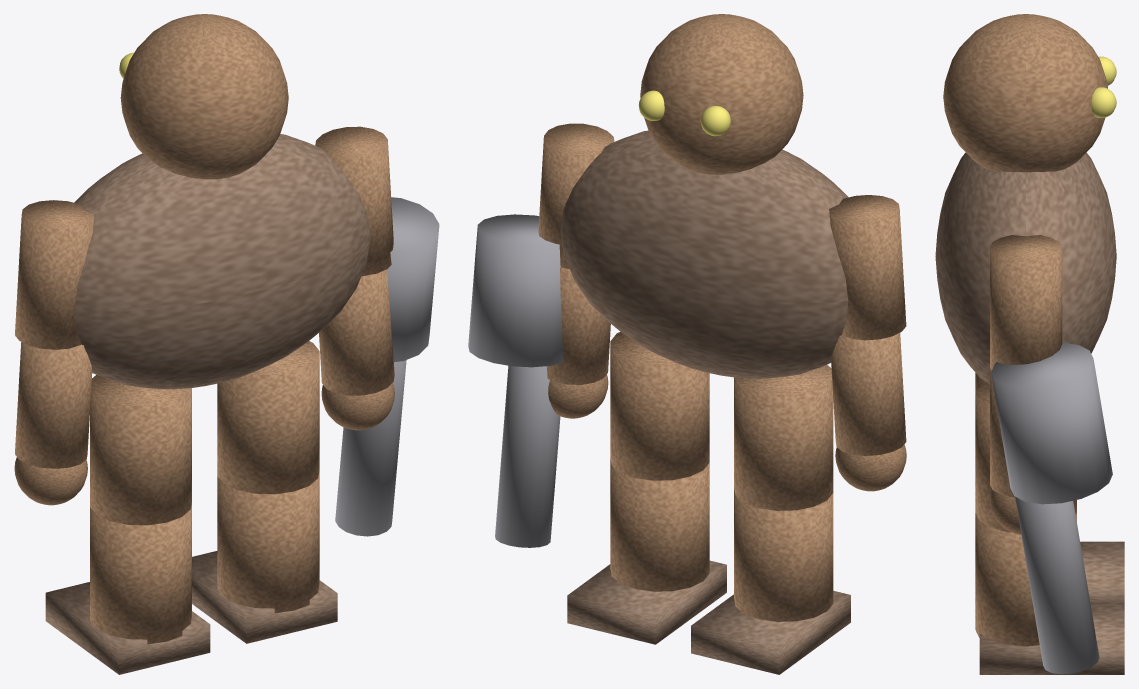
The model's file is half-ogre.glb.
3 views of the same model, side by side, from view 1: azimuth 30°, elevation 25°; view 2: azimuth 150°, elevation 25°; view 3: azimuth 270°, elevation 25° (orthographic). The views are drawn at different scales.
Parts seen in each view (by area): view 1: Torso, Head, ThighL, ThighR, ShinR, ShinL, UpperArmL, ForearmL, ForearmR, ClubShaft, ClubHead, FootL (+4 smaller); view 2: Torso, Head, ThighL, ClubHead, ThighR, ShinR, ShinL, ClubShaft, UpperArmL, ForearmL, FootR, FootL (+6 smaller); view 3: Torso, Head, ClubHead, ClubShaft, UpperArmR, ShinR, FootR, FootL, ThighR, ForearmR, HandR, Eye.001 (+1 smaller).
Boxes of the visible parts, x1,y1,x2,y2 form: Torso: [74, 134, 370, 389]; Head: [120, 14, 288, 179]; ThighL: [90, 375, 191, 525]; ThighR: [217, 341, 319, 494]; ShinR: [217, 470, 319, 613]; ShinL: [90, 503, 191, 644]; UpperArmL: [15, 200, 94, 349]; ForearmL: [15, 342, 92, 468]; ForearmR: [319, 269, 394, 395]; ClubShaft: [335, 360, 406, 536]; ClubHead: [387, 197, 439, 361]; FootL: [45, 582, 210, 674]; Torso: [560, 130, 848, 378]; Head: [640, 14, 803, 174]; ThighL: [734, 365, 833, 510]; ClubHead: [468, 214, 563, 367]; ThighR: [610, 332, 709, 480]; ShinR: [610, 458, 709, 591]; ShinL: [734, 488, 833, 621]; ClubShaft: [495, 365, 560, 547]; UpperArmL: [829, 195, 906, 340]; ForearmL: [831, 333, 906, 455]; FootR: [567, 560, 726, 644]; FootL: [691, 590, 850, 674]; Torso: [935, 152, 1116, 384]; Head: [943, 14, 1107, 172]; ClubHead: [991, 342, 1112, 504]; ClubShaft: [1015, 497, 1099, 674]; UpperArmR: [990, 235, 1062, 370]; ShinR: [975, 512, 1076, 646]; FootR: [979, 603, 1124, 674]; FootL: [1080, 541, 1124, 602]; ThighR: [975, 382, 1076, 532]; ForearmR: [990, 368, 1015, 497]; HandR: [990, 489, 1021, 534]; Eye.001: [1091, 87, 1116, 118].
Bounding box in the file's own units: 0.7246 × 1 × 0.2852.
Materials: 4 (2 with a texture image).
